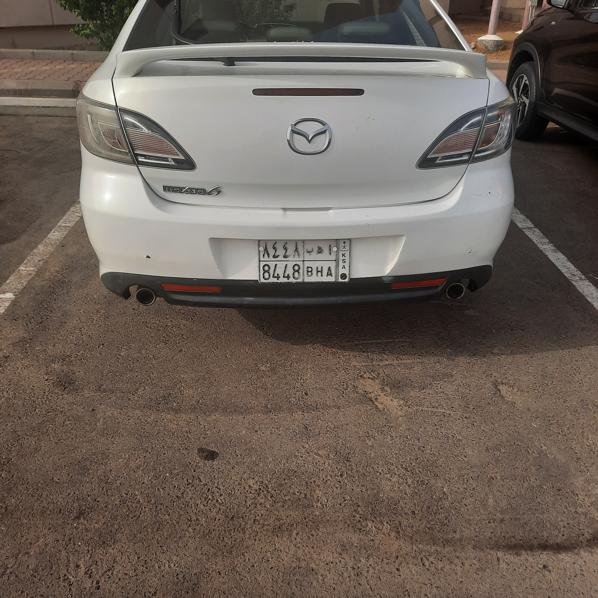numberplate: (259, 239, 350, 283)
